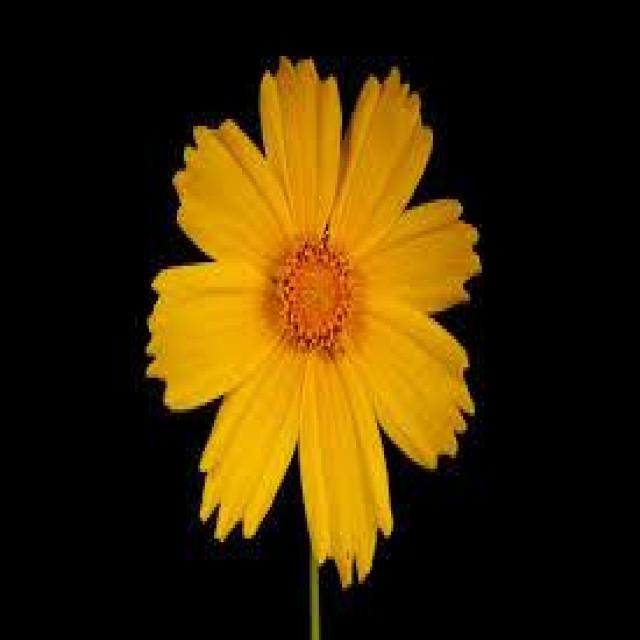organic waste: (131, 58, 483, 565)
